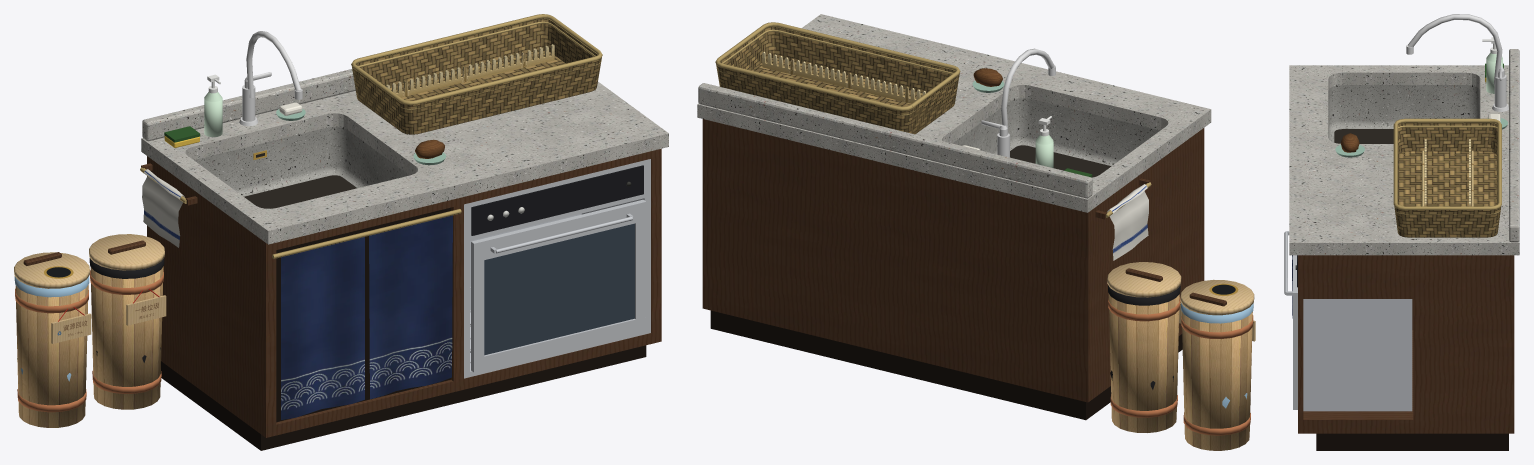
Rendered from sink.glb.
3 views of the same model, side by side, from view 1: azimuth 30°, elevation 25°; view 2: azimuth 150°, elevation 25°; view 3: azimuth 270°, elevation 25° (orthographic). The views are drawn at different scales.
Parts seen in each view (by area): view 1: SinkTop, SinkBasket, SinkBody, SinkDryerGlass, SinkNoren0, SinkNoren1, SinkBinBody, SinkBinRecBody, SinkBasin, SinkKick, SinkDryerPanel, SinkRailFoot (+30 smaller); view 2: SinkBody, SinkBodyR, SinkTop, SinkBodyBack, SinkBasket, SinkUpstand, SinkBinBody, SinkBinRecBody, SinkKick, SinkBasin, SinkBodyLeft, SinkBasketRim (+11 smaller); view 3: SinkTop, SinkBodyR, SinkDryerCavity, SinkBasket, SinkBodyRight, SinkBasin, SinkKick, SinkBodyRFoot, SinkUpstand, SinkBasketRim, SinkBodyBack, SinkBodyFront (+9 smaller).
Part boxes in pixels (x1,y1,x2,y2): SinkTop: (141, 81, 668, 244); SinkBasket: (352, 18, 601, 134); SinkBody: (147, 225, 262, 435); SinkDryerGlass: (484, 223, 634, 355); SinkNoren0: (281, 237, 364, 419); SinkNoren1: (369, 215, 452, 399); SinkBinBody: (90, 266, 163, 409); SinkBinRecBody: (15, 284, 88, 427); SinkBasin: (194, 126, 409, 196); SinkKick: (161, 345, 646, 450); SinkDryerPanel: (471, 165, 643, 235); SinkRailFoot: (265, 330, 661, 437); SinkBody: (900, 175, 1201, 402); SinkBodyR: (702, 164, 900, 356); SinkTop: (697, 14, 1211, 212); SinkBodyBack: (702, 119, 1105, 257); SinkBasket: (716, 27, 959, 134); SinkUpstand: (698, 83, 1092, 198); SinkBinBody: (1108, 293, 1180, 432); SinkBinRecBody: (1181, 311, 1253, 450); SinkKick: (710, 310, 1182, 420); SinkBasin: (953, 98, 1159, 165); SinkBodyLeft: (1105, 139, 1188, 245); SinkBasketRim: (715, 22, 960, 110); SinkTop: (1289, 65, 1519, 255); SinkBodyR: (1413, 299, 1514, 433); SinkDryerCavity: (1303, 299, 1412, 411); SinkBasket: (1394, 123, 1501, 237); SinkBodyRight: (1327, 255, 1481, 298); SinkBasin: (1328, 85, 1480, 142); SinkKick: (1316, 433, 1508, 450); SinkBodyRFoot: (1303, 330, 1413, 433); SinkUpstand: (1509, 49, 1519, 242); SinkBasketRim: (1393, 118, 1501, 209); SinkBodyBack: (1482, 255, 1514, 298); SinkBodyFront: (1303, 255, 1326, 298).
Size of the model in its own units: 2.11 by 1.24 by 0.868.
Materials: 45 (14 with a texture image).
